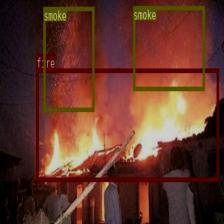fire: (36, 68, 218, 180)
smoke: (132, 5, 204, 90), (42, 7, 93, 111)
